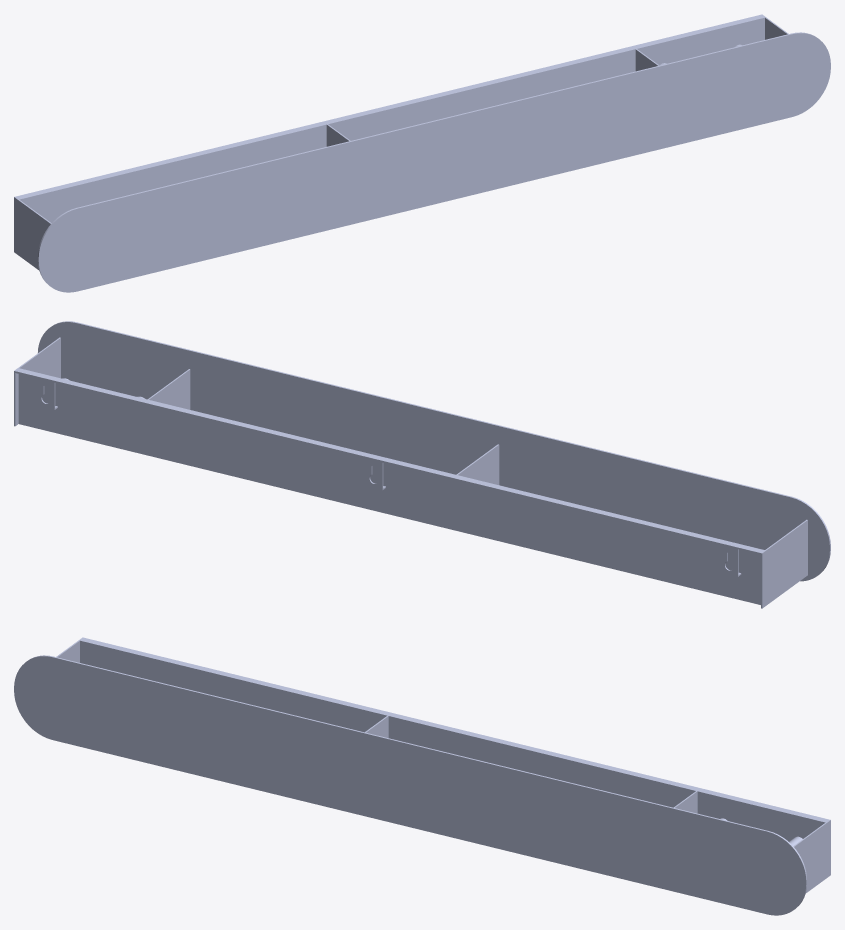
Rendered from round-patron.705236f9a7.glb.
3 views of the same model, one above another, from view 1: azimuth 30°, elevation 25°; view 2: azimuth 150°, elevation 25°; view 3: azimuth 330°, elevation 25° (orthographic).
Visible parts, largest first — view 1: NAUO1; view 2: NAUO1; view 3: NAUO1.
Boxes of the visible parts, <box> form: NAUO1: <box>14,14,830,292</box>; NAUO1: <box>14,321,830,608</box>; NAUO1: <box>14,637,830,915</box>.
Size of the model in its own units: 0.9 by 0.09 by 0.092.
